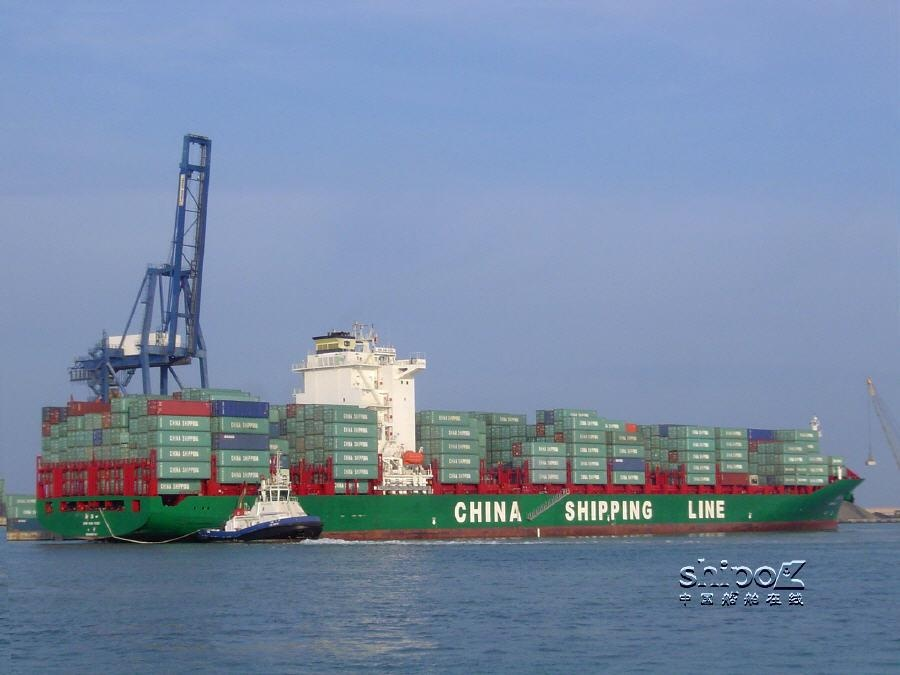Cargoship: (22, 319, 864, 549)
otherboat: (201, 445, 322, 552)
